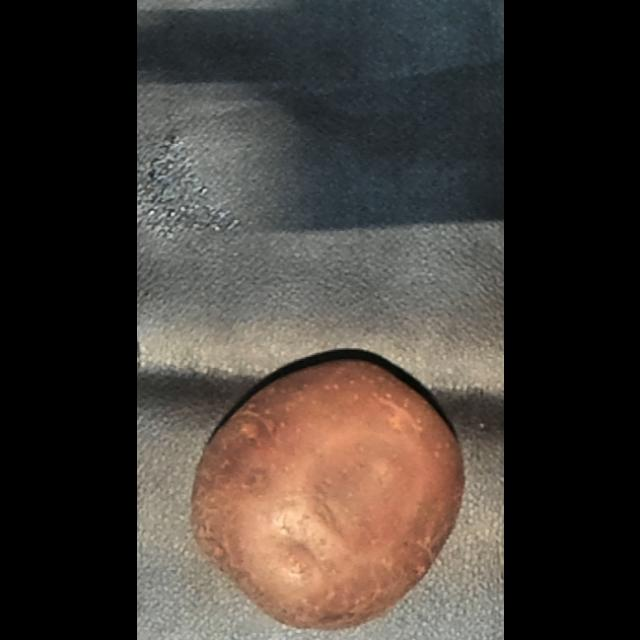Diseased-fungal potato: (180, 337, 492, 633)
